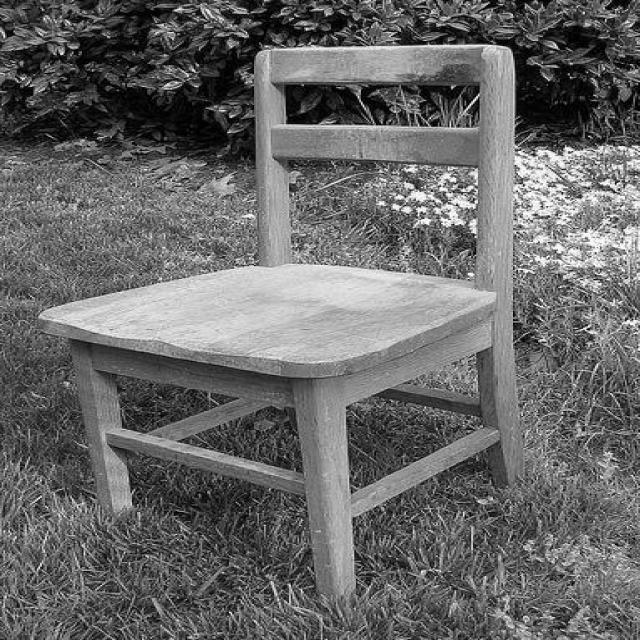chair: (40, 43, 552, 598)
